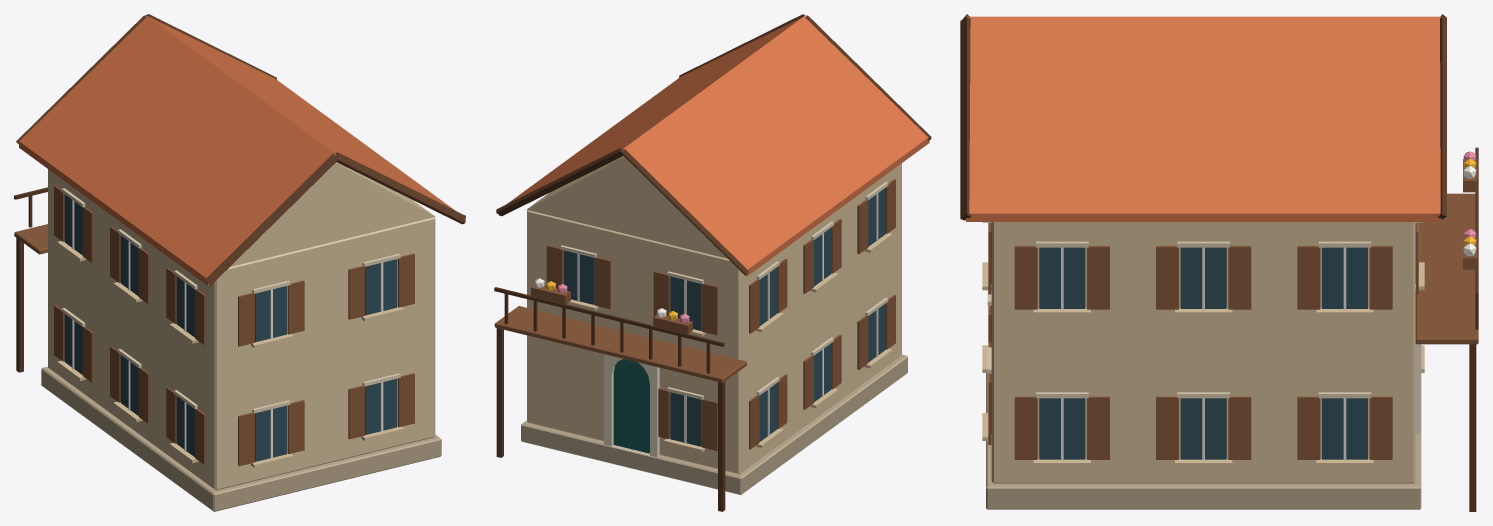
The model's file is house_b.glb.
The picture shows the model from 3 angles, left to right: view 1: azimuth 30°, elevation 25°; view 2: azimuth 150°, elevation 25°; view 3: azimuth 270°, elevation 25°; orthographic projection. The views are drawn at different scales.
Visible parts, largest first — view 1: house; view 2: house; view 3: house.
Part boxes in pixels (x1,y1,x2,y2): house: [14, 14, 465, 511]; house: [494, 14, 931, 511]; house: [960, 14, 1478, 511].
Size of the model in its own units: 6.62 by 8.18 by 9.05.
